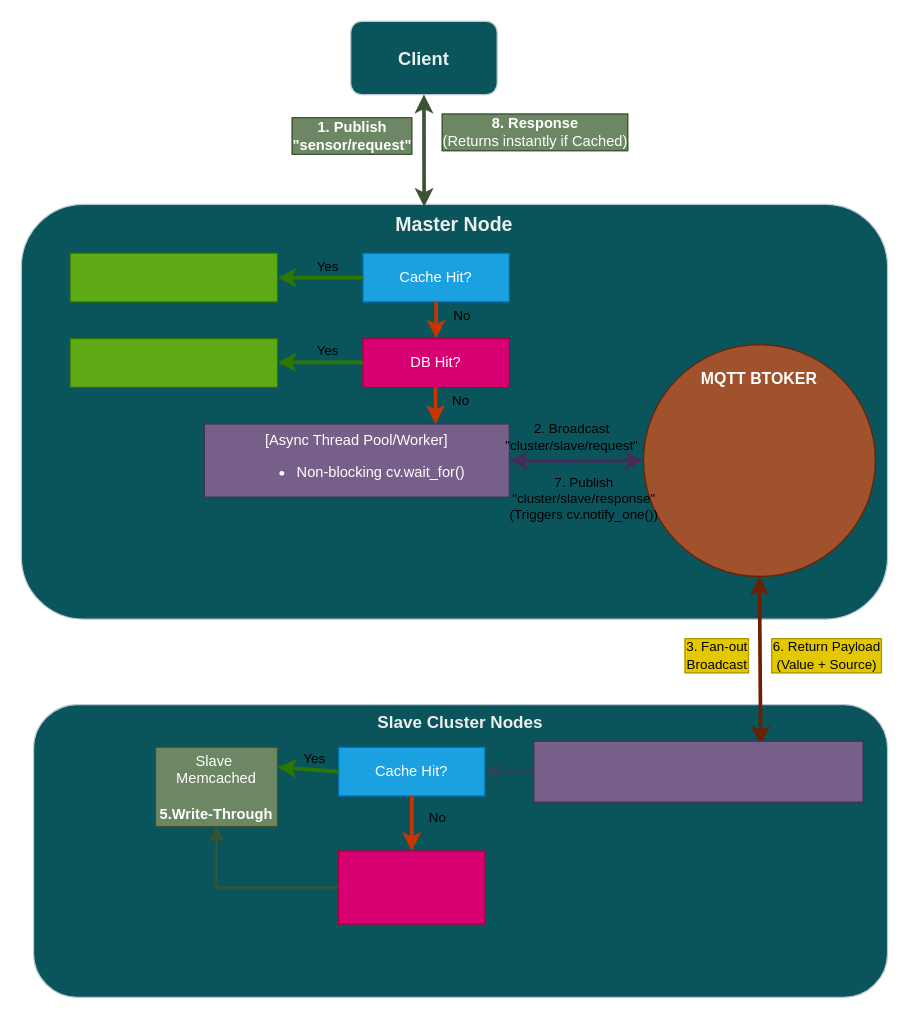
Some shapes in this 909 by 1019 pixel diagram are drawn without their labels. The centre of each missing label's shape, as x and y in pixels:
Master Memchached: the point at 173,277
Master SQLite DB: the point at 173,362
Slave MQTT Listen Loop: the point at 698,771
SQLite DB Disk Query 4. Disk Fetch: the point at 411,887
